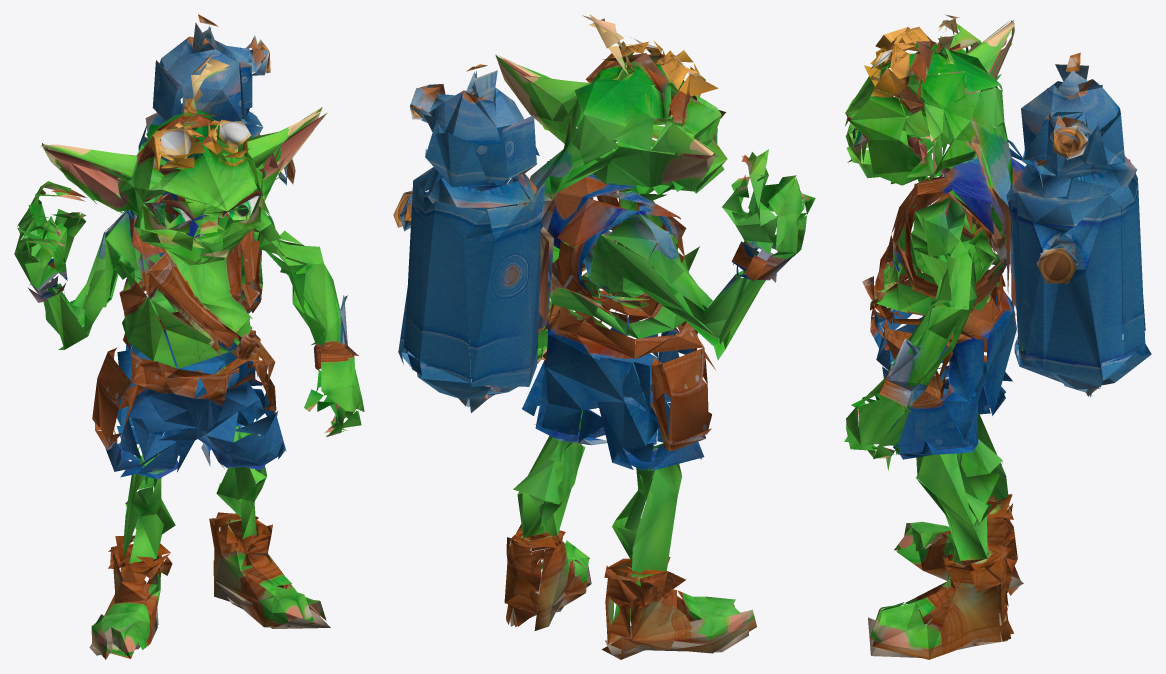
Rendered from goblin_mech_ai.glb.
3 renders of one model, left to right at view 1: azimuth 30°, elevation 25°; view 2: azimuth 150°, elevation 25°; view 3: azimuth 270°, elevation 25°, orthographic. The views are drawn at different scales.
Parts seen in each view (by area): view 1: Body; view 2: Body; view 3: Body.
Part boxes in pixels (x1,y1,x2,y2): Body: (14,14,364,659); Body: (393,14,815,659); Body: (844,14,1151,659).
Bounding box in the file's own units: 1.11 × 1.85 × 0.8582.
1 material, 1 textured.
